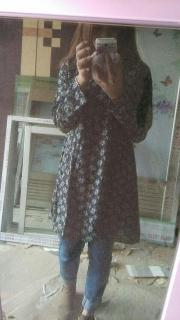long sleeve dress: (48, 53, 153, 245)
trousers: (58, 143, 125, 311)
